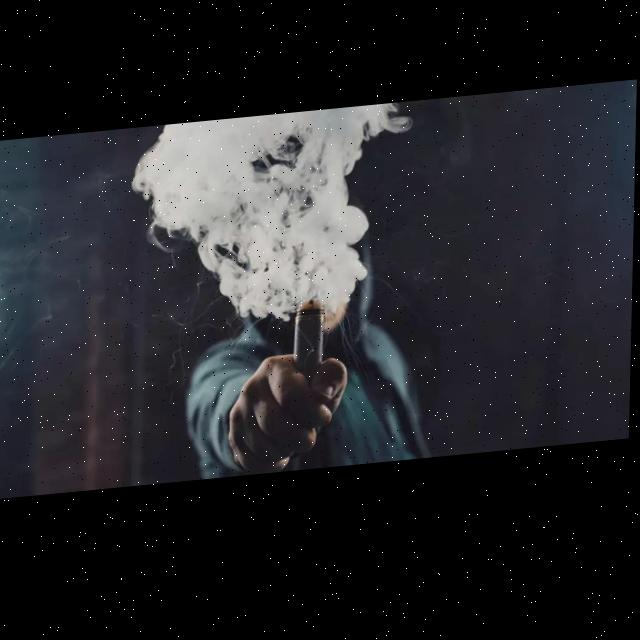vape: (296, 299, 327, 389)
